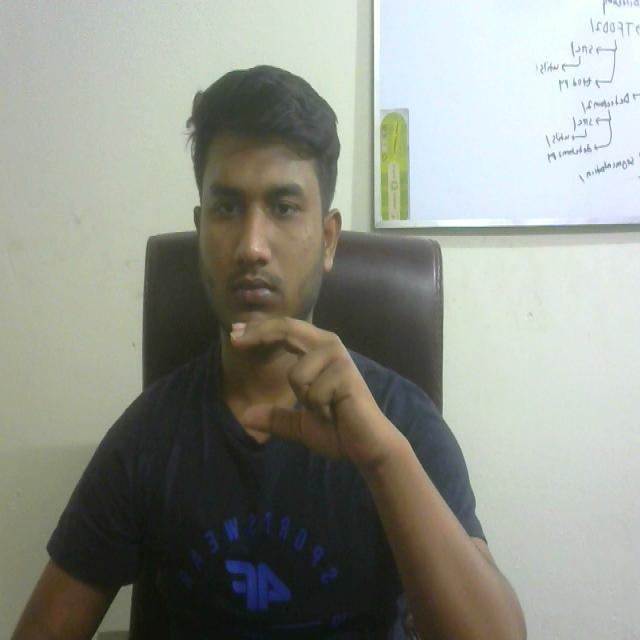D: (213, 297, 370, 483)
